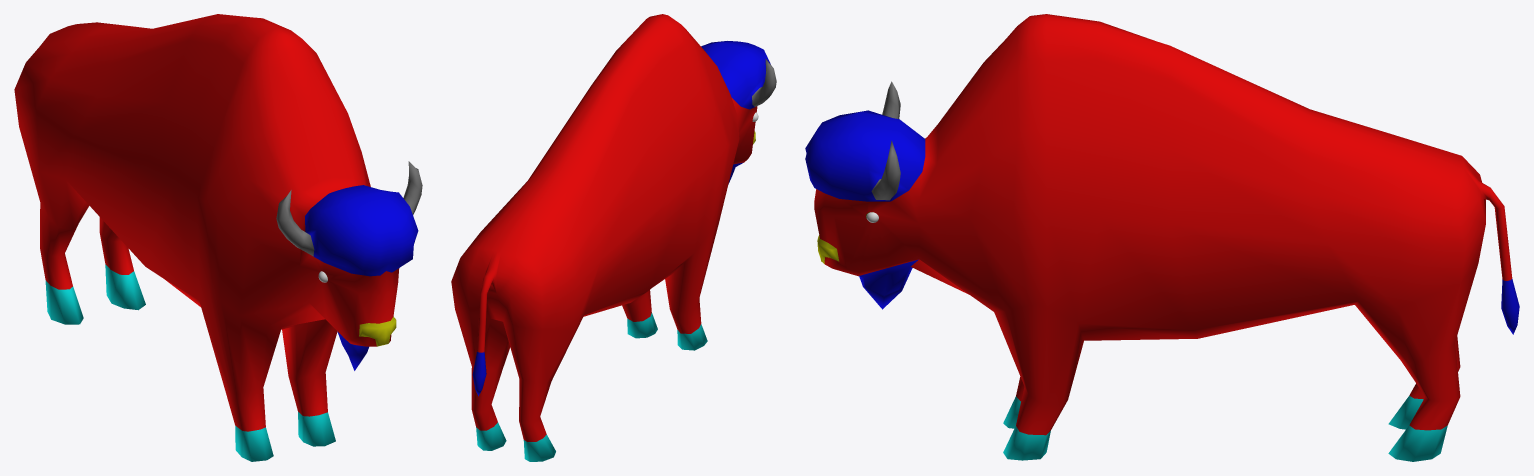
Rendered from Bison_Animation.fbx.
The picture shows the model from 3 angles, left to right: view 1: azimuth 30°, elevation 25°; view 2: azimuth 150°, elevation 25°; view 3: azimuth 270°, elevation 25°; orthographic projection. The views are drawn at different scales.
Visible parts, largest first — view 1: Vladimir; view 2: Vladimir; view 3: Vladimir.
Part boxes in pixels (left/top/right/bottom): Vladimir: left=14, top=14, right=422, bottom=461; Vladimir: left=451, top=14, right=776, bottom=461; Vladimir: left=805, top=14, right=1519, bottom=461.
Bounding box in the file's own units: 122 × 305 × 468.
